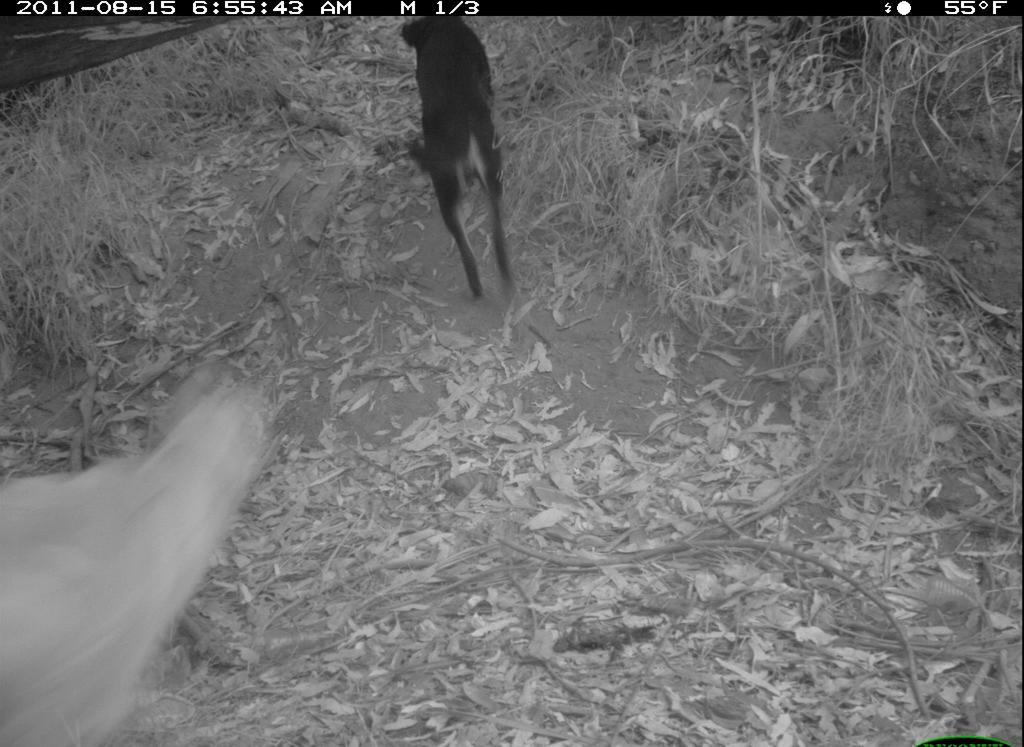dog: (7, 365, 273, 747), (390, 15, 530, 303)
